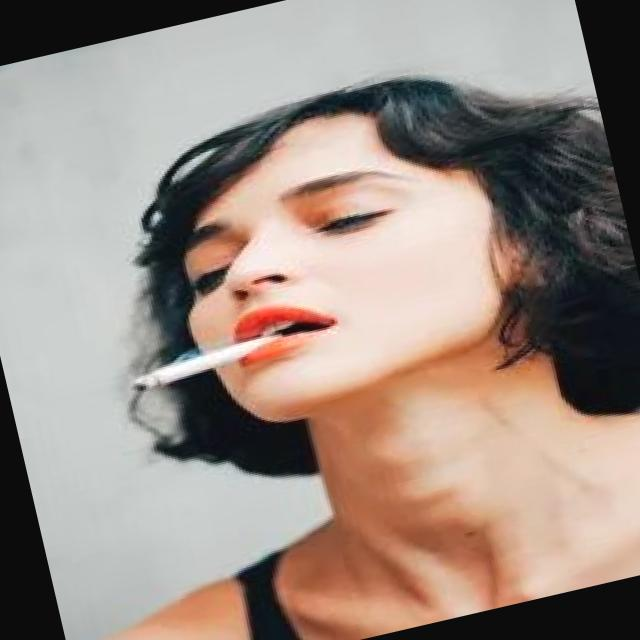cigarette: (122, 324, 300, 396)
